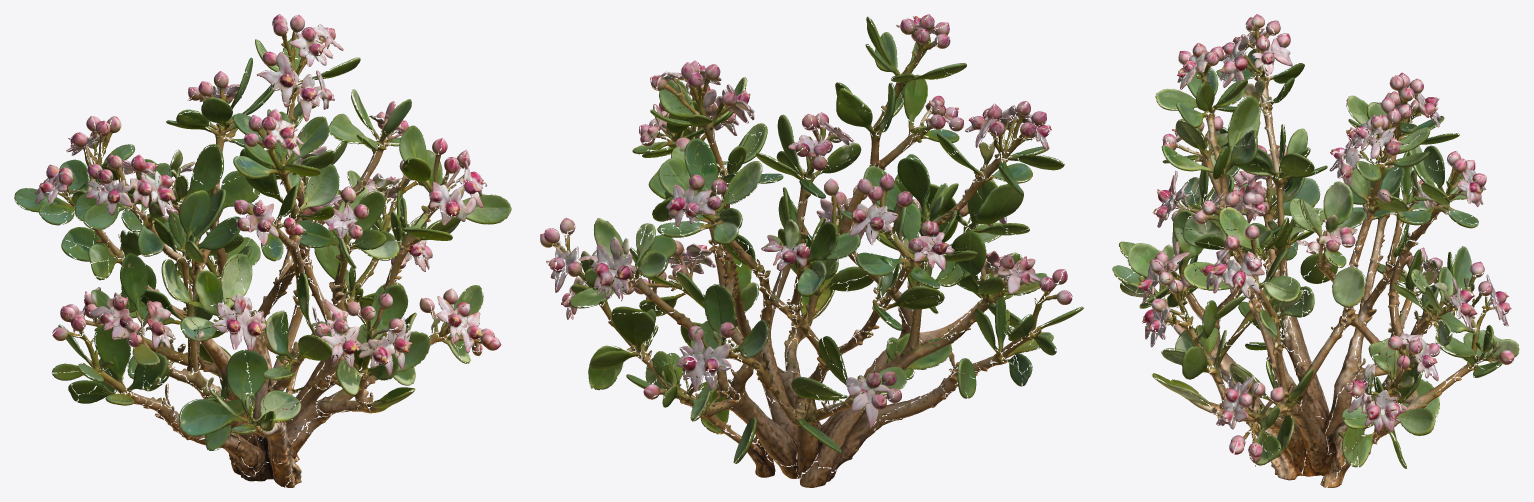
The model's file is ashraq.glb.
3 views of the same model, side by side, from view 1: azimuth 30°, elevation 25°; view 2: azimuth 150°, elevation 25°; view 3: azimuth 270°, elevation 25° (orthographic). The views are drawn at different scales.
Parts seen in each view (by area): view 1: tripo_node_ce4394e8-9e54-477f-b1b6-305dc178e503; view 2: tripo_node_ce4394e8-9e54-477f-b1b6-305dc178e503; view 3: tripo_node_ce4394e8-9e54-477f-b1b6-305dc178e503.
Boxes of the visible parts, x1=… form: tripo_node_ce4394e8-9e54-477f-b1b6-305dc178e503: x1=14, y1=14, x2=511, y2=487; tripo_node_ce4394e8-9e54-477f-b1b6-305dc178e503: x1=540, y1=14, x2=1083, y2=487; tripo_node_ce4394e8-9e54-477f-b1b6-305dc178e503: x1=1112, y1=14, x2=1519, y2=487.
Bounding box in the file's own units: 0.9807 × 0.8752 × 0.8041.
Materials: 1 (1 with a texture image).
